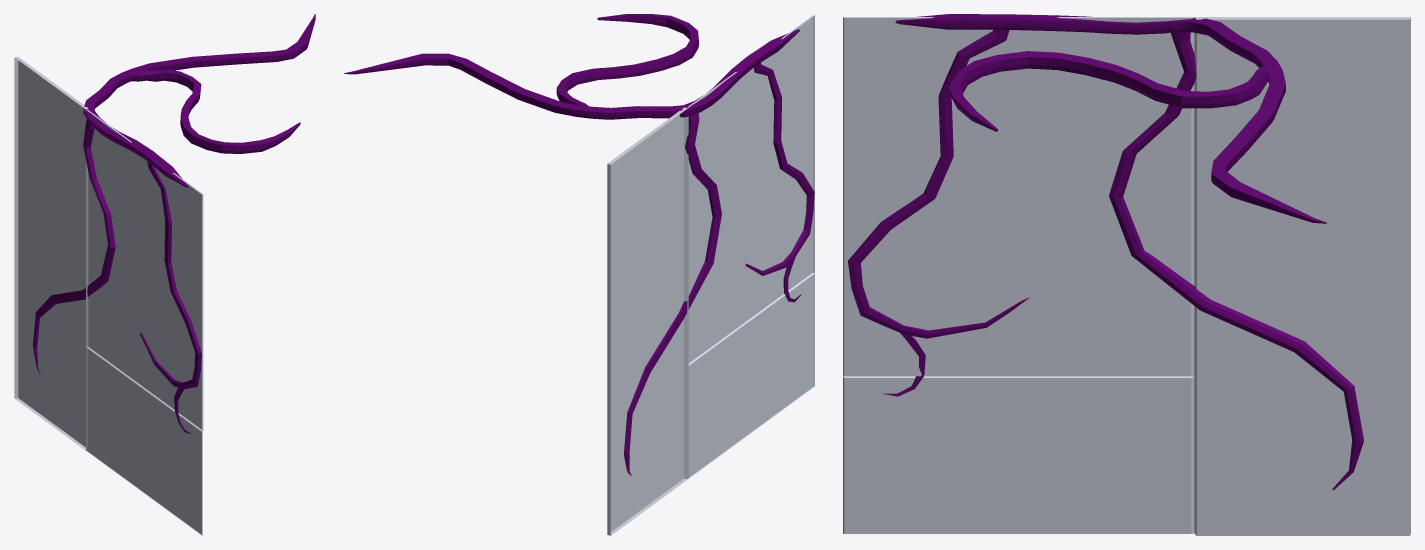
The model's file is Pared_Corrupta_04.fbx.
3 renders of one model, left to right at view 1: azimuth 30°, elevation 25°; view 2: azimuth 150°, elevation 25°; view 3: azimuth 270°, elevation 25°, orthographic. The views are drawn at different scales.
Parts seen in each view (by area): view 1: polySurface55, pCube170; view 2: polySurface55, pCube170; view 3: polySurface55, pCube170.
Part boxes in pixels (box(x1,y1,x2,y2)): polySurface55: box(14, 57, 203, 535); pCube170: box(32, 14, 315, 434); polySurface55: box(607, 15, 814, 535); pCube170: box(344, 14, 814, 475); polySurface55: box(843, 17, 1410, 535); pCube170: box(848, 14, 1363, 489).
Bounding box in the file's own units: 5.12 × 6.04 × 5.98.
